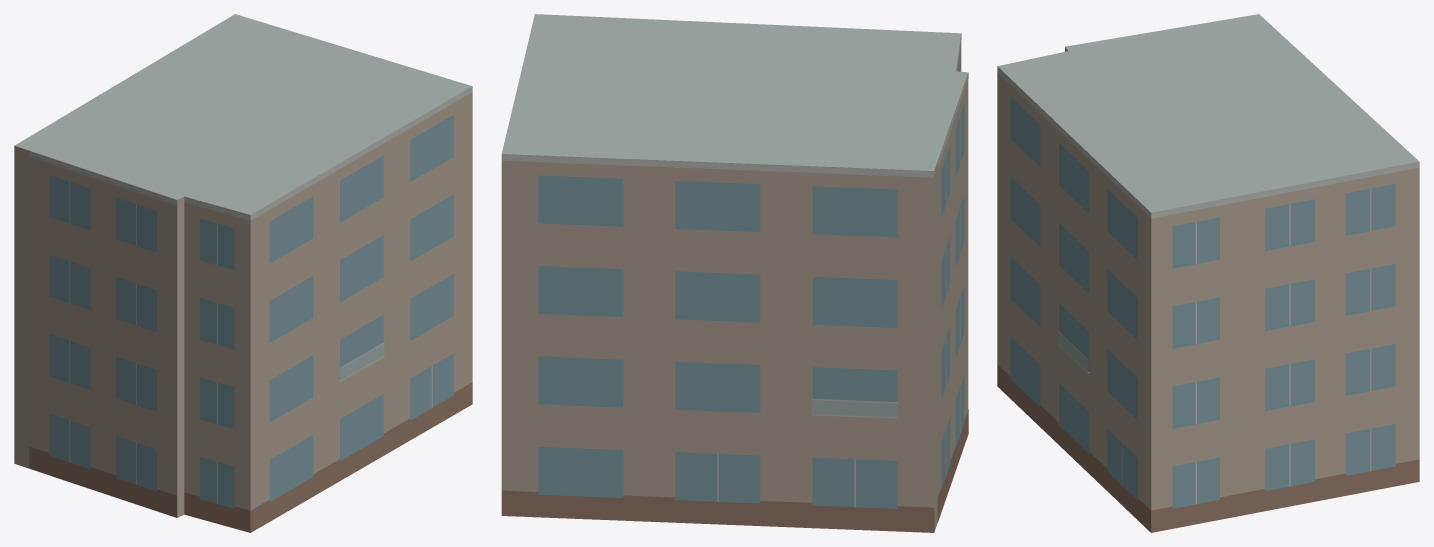
Rendered from survey-upis-33037665.glb.
3 renders of one model, left to right at view 1: azimuth 30°, elevation 25°; view 2: azimuth 150°, elevation 25°; view 3: azimuth 270°, elevation 25°, orthographic. The views are drawn at different scales.
Visible parts, largest first — view 1: survey-upis-33037665.tmp; view 2: survey-upis-33037665.tmp; view 3: survey-upis-33037665.tmp.
Part boxes in pixels (x1,y1,x2,y2): survey-upis-33037665.tmp: (14, 14, 472, 532); survey-upis-33037665.tmp: (501, 14, 968, 532); survey-upis-33037665.tmp: (997, 14, 1419, 532).
Size of the model in its own units: 17.59 by 13.2 by 15.79.
